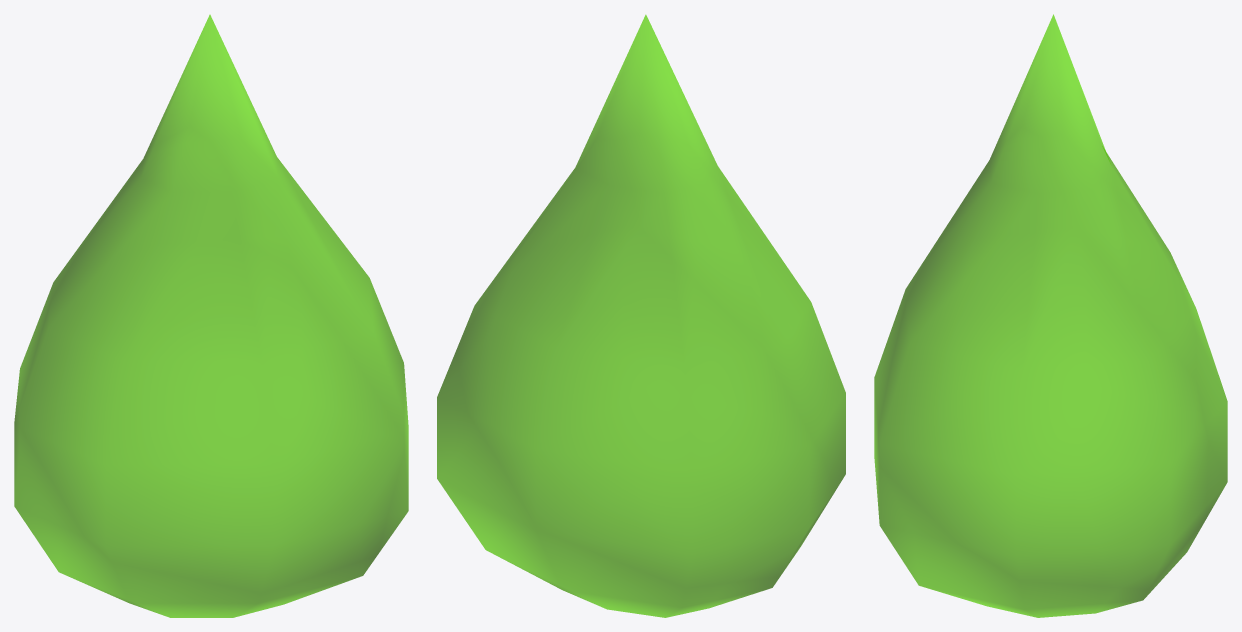
Rendered from blob drop.fbx.
3 renders of one model, left to right at view 1: azimuth 30°, elevation 25°; view 2: azimuth 150°, elevation 25°; view 3: azimuth 270°, elevation 25°, orthographic.
Visible parts, largest first — view 1: polySurface11; view 2: polySurface11; view 3: polySurface11.
Boxes of the visible parts, bbox=[...] form: polySurface11: bbox=[14, 14, 408, 617]; polySurface11: bbox=[437, 14, 845, 617]; polySurface11: bbox=[874, 14, 1227, 617].
Size of the model in its own units: 0.0344 by 0.0532 by 0.0297.
